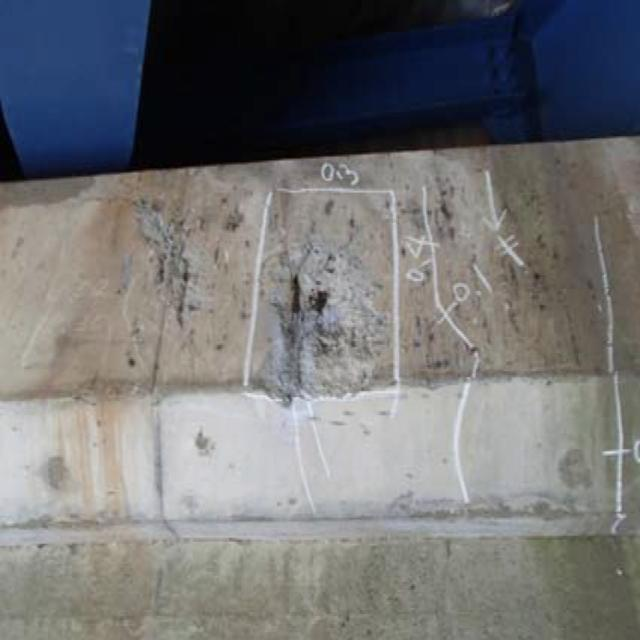spalling: (244, 238, 386, 402), (130, 205, 196, 342)
